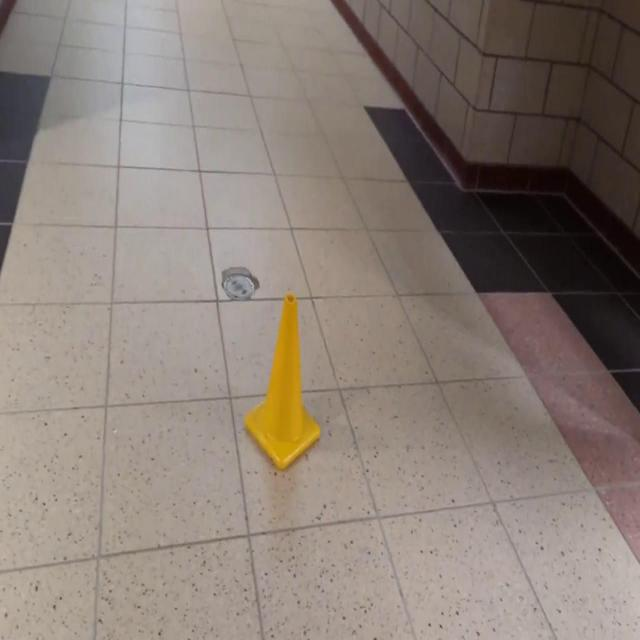frc_cone: (244, 292, 322, 472)
